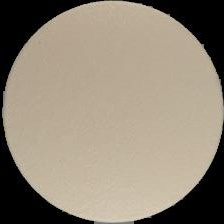66336-897: (0, 0, 224, 224)
